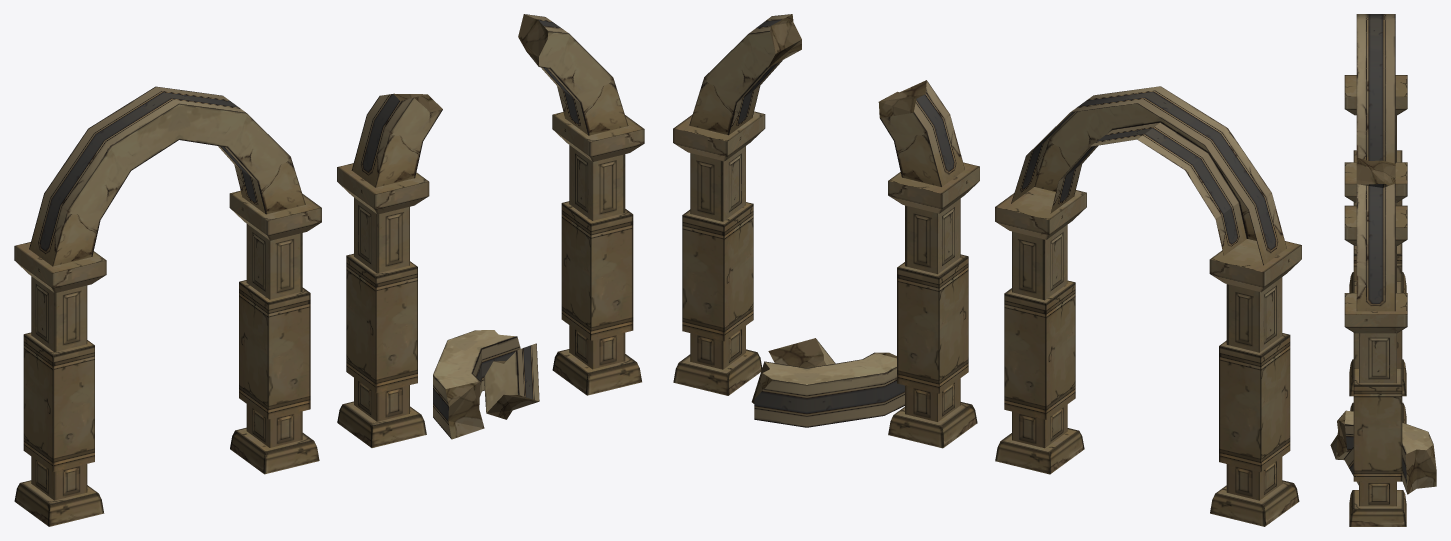
File: 2_DG_Men_01.FBX
The picture shows the model from 3 angles, left to right: view 1: azimuth 30°, elevation 25°; view 2: azimuth 150°, elevation 25°; view 3: azimuth 270°, elevation 25°; orthographic projection. The views are drawn at different scales.
Parts seen in each view (by area): view 1: 2_DG_Men_01, 2_DG_Men_02, 2_DG_Men_03, 2_DG_Men_04; view 2: 2_DG_Men_01, 2_DG_Men_02, 2_DG_Men_03, 2_DG_Men_04; view 3: 2_DG_Men_02, 2_DG_Men_01, 2_DG_Men_03, 2_DG_Men_04.
Part boxes in pixels (x1,y1,x2,y2): 2_DG_Men_01: (14, 86, 321, 526); 2_DG_Men_02: (337, 14, 644, 447); 2_DG_Men_03: (433, 330, 520, 439); 2_DG_Men_04: (484, 343, 539, 419); 2_DG_Men_01: (995, 86, 1301, 526); 2_DG_Men_02: (673, 14, 979, 448); 2_DG_Men_03: (751, 352, 904, 427); 2_DG_Men_04: (768, 338, 835, 368); 2_DG_Men_02: (1344, 157, 1407, 526); 2_DG_Men_01: (1344, 14, 1407, 396); 2_DG_Men_03: (1330, 410, 1436, 494); 2_DG_Men_04: (1344, 447, 1358, 485).
Size of the model in its own units: 1280 by 842 by 239.
